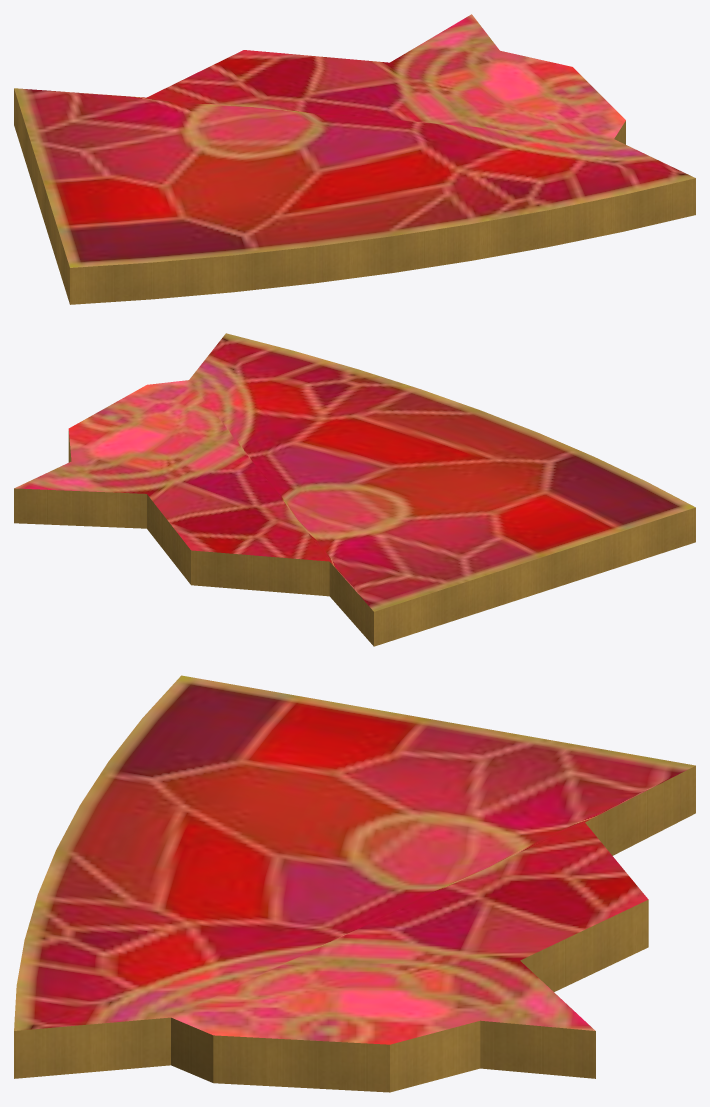
The model's file is lb_chunk_0_3.glb.
3 views of the same model, one above another, from view 1: azimuth 30°, elevation 25°; view 2: azimuth 150°, elevation 25°; view 3: azimuth 270°, elevation 25° (orthographic). The views are drawn at different scales.
Parts seen in each view (by area): view 1: lb_chunk_0_3; view 2: lb_chunk_0_3; view 3: lb_chunk_0_3.
Boxes of the visible parts, bbox=[...] form: lb_chunk_0_3: bbox=[14, 14, 695, 304]; lb_chunk_0_3: bbox=[14, 333, 695, 646]; lb_chunk_0_3: bbox=[14, 675, 695, 1092].
Size of the model in its own units: 5.96 by 0.36 by 4.65.
Materials: 2 (2 with a texture image).
